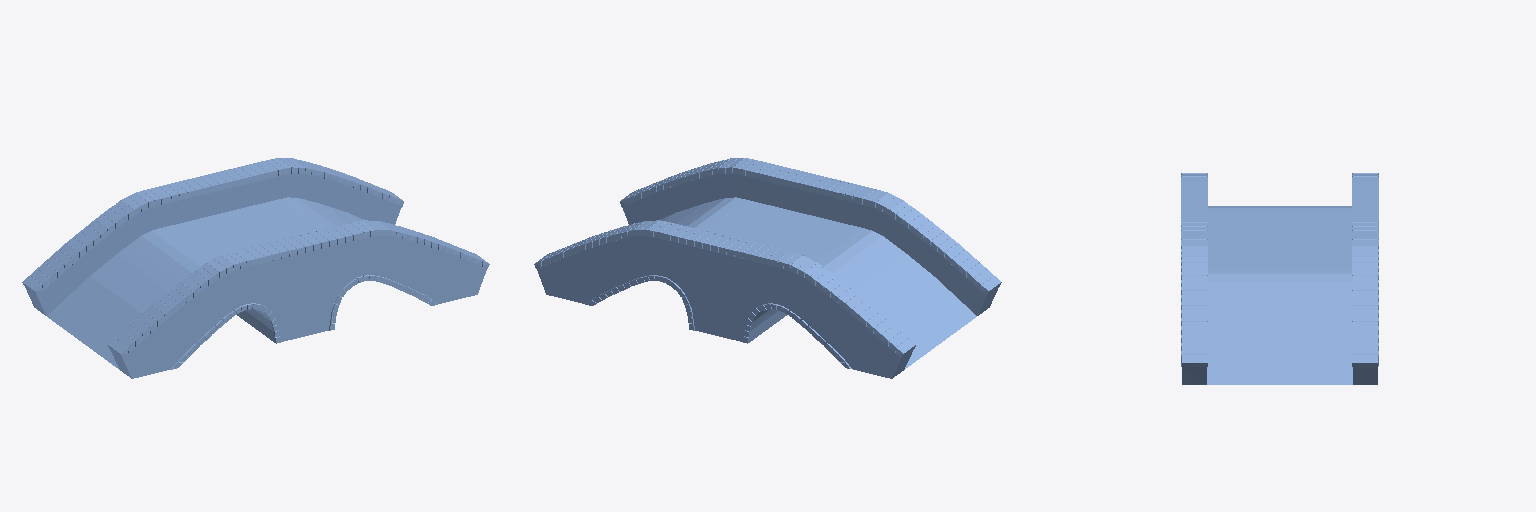
The model's file is Bridge.obj.
3 views of the same model, side by side, from view 1: azimuth 30°, elevation 25°; view 2: azimuth 150°, elevation 25°; view 3: azimuth 270°, elevation 25° (orthographic).
Visible parts, largest first — view 1: Bridge; view 2: Bridge; view 3: Bridge.
Boxes of the visible parts, box(x1,y1,x2,y2) form: Bridge: box(22, 158, 489, 378); Bridge: box(534, 158, 1001, 378); Bridge: box(1181, 173, 1378, 384).
Bounding box in the file's own units: 251 × 58.61 × 117.